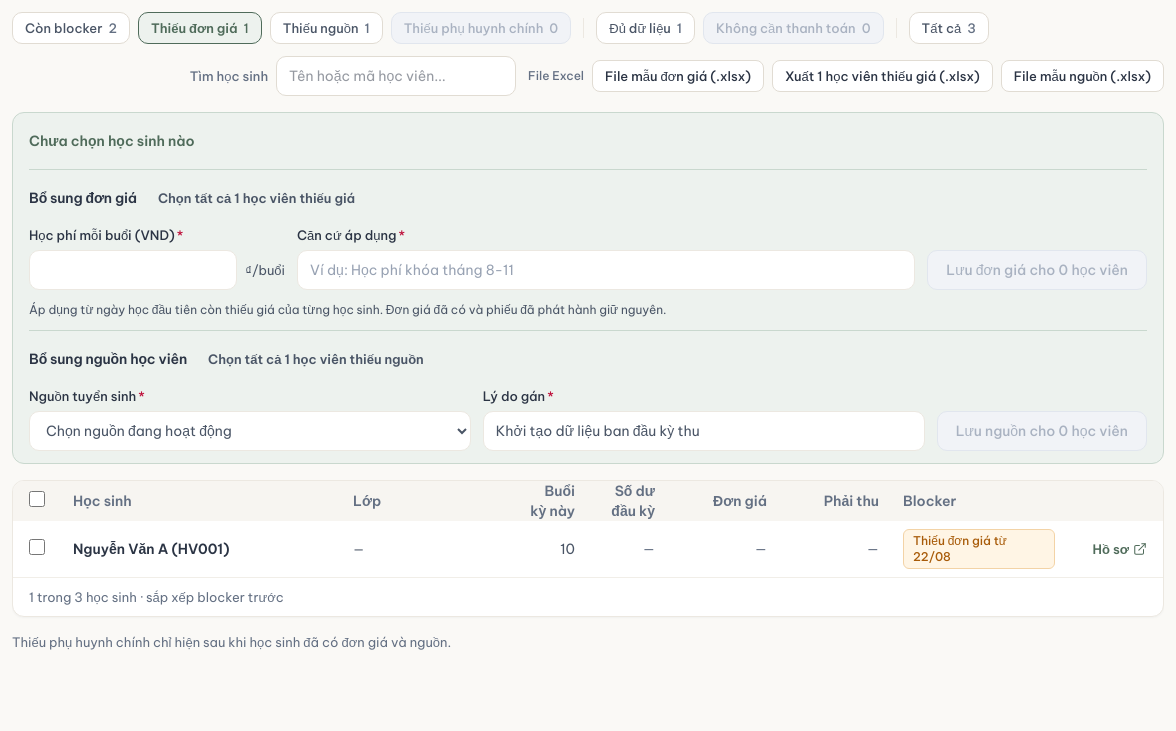
Test: TuitionReadinessTable › renders students missing rate by default and allows toggling filters
Expected: the text "Nguyễn Văn A (HV001)" is shown, x1=73 y1=540 x2=229 y2=558
Expected: the text "Trần Thị B (HV002)" is not shown
Click filter "Tất cả"
Click the button "Tất cả 3". click: (949, 28)
box: x1=908 y1=12 x2=989 y2=44
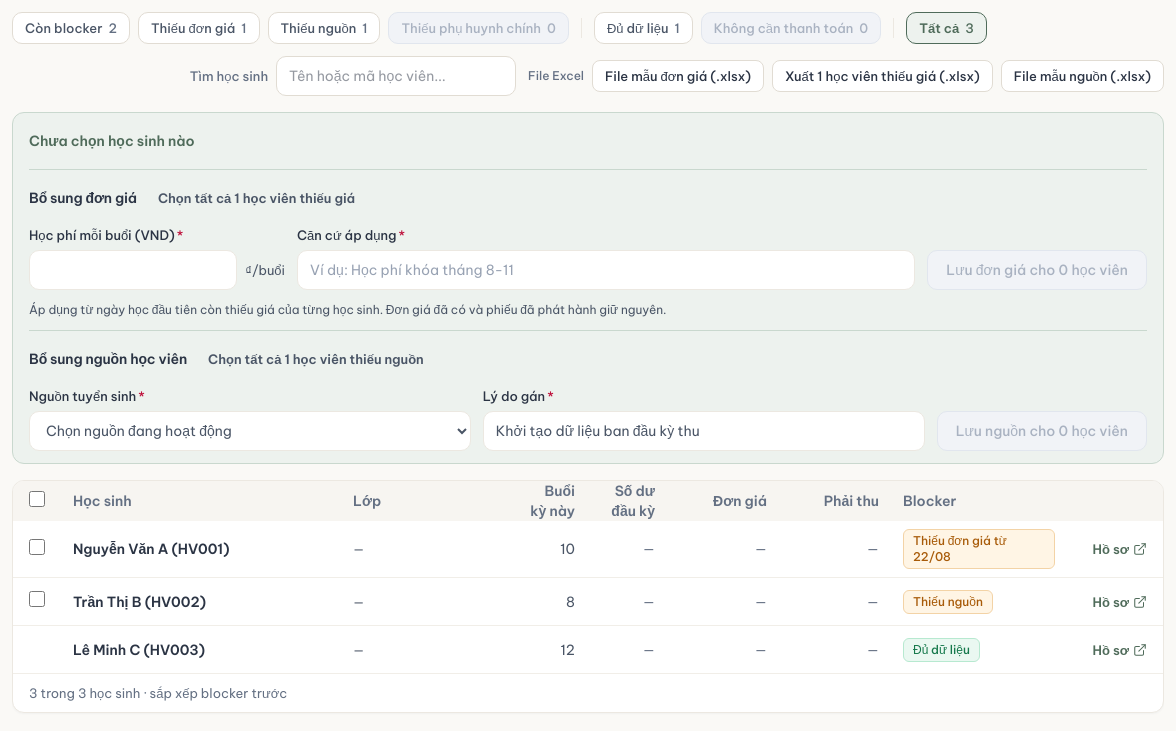
Expected: the text "Nguyễn Văn A (HV001)" is shown, x1=73 y1=540 x2=229 y2=558
Result: the text "Trần Thị B (HV002)" is shown at x1=73 y1=592 x2=206 y2=610
Result: the text "Lê Minh C (HV003)" is shown at x1=73 y1=640 x2=205 y2=658
